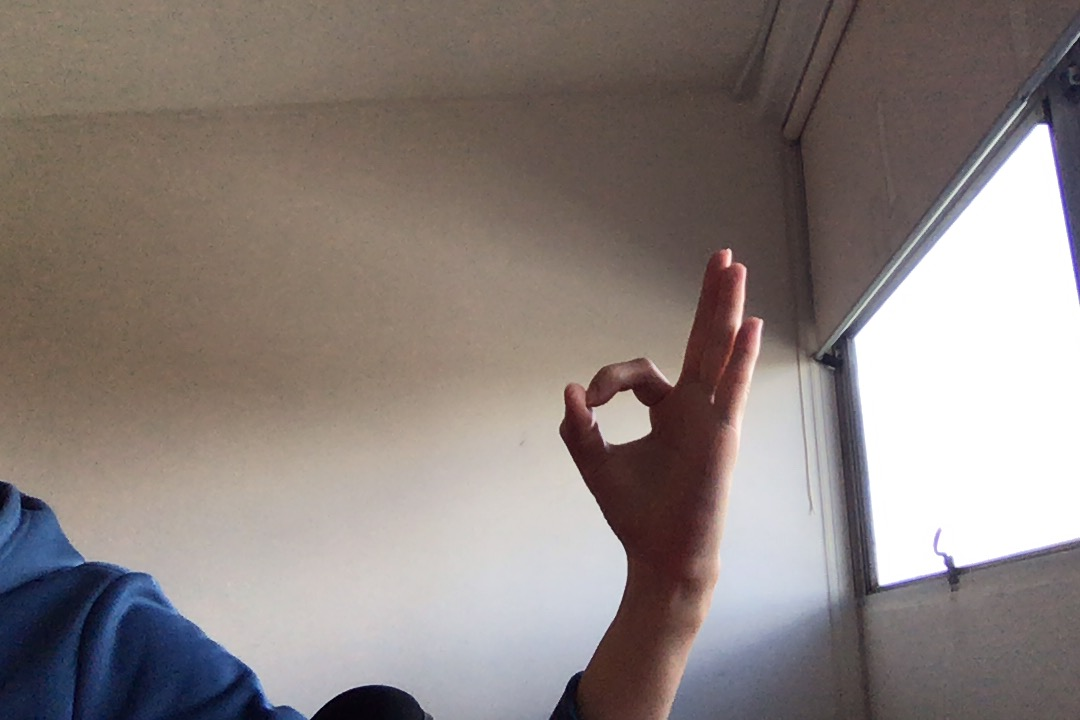oksign: (551, 239, 767, 595)
